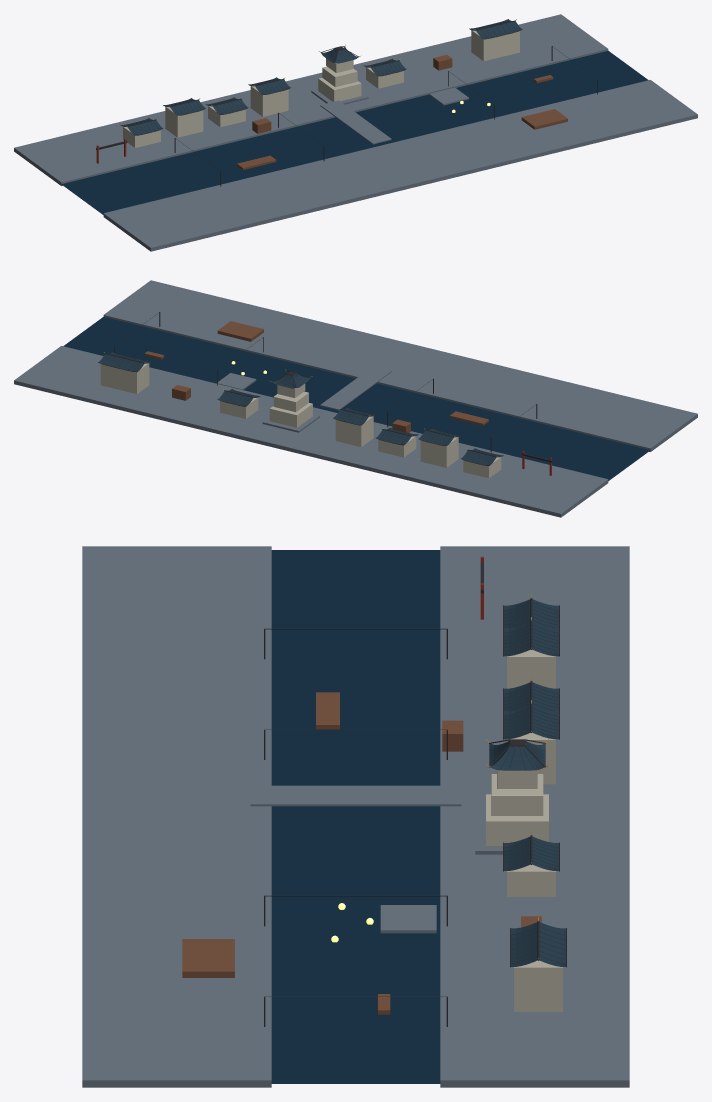
The model's file is greybox.glb.
The picture shows the model from 3 angles, top to bottom: view 1: azimuth 30°, elevation 25°; view 2: azimuth 150°, elevation 25°; view 3: azimuth 270°, elevation 25°; orthographic projection. The views are drawn at different scales.
Parts seen in each view (by area): view 1: model-riverbanks, model-water, model-lantern-tower, model-shop-06, model-shop-02, model-shop-04, model-bridge, model-shop-03, model-shop-05, model-shop-01, model-performance, model-quay; view 2: model-riverbanks, model-water, model-lantern-tower, model-shop-06, model-shop-04, model-shop-02, model-bridge, model-shop-05, model-shop-01, model-shop-03, model-performance, model-quay; view 3: model-riverbanks, model-water, model-lantern-tower, model-bridge, model-shop-06, model-shop-02, model-shop-05, model-shop-04, model-performance, model-quay, model-shop-01, model-shop-03 (+1 smaller).
Boxes of the visible parts, x1=… form: model-riverbanks: x1=14, y1=14, x2=697, y2=251; model-water: x1=61, y1=51, x2=648, y2=214; model-lantern-tower: x1=311, y1=44, x2=368, y2=104; model-shop-06: x1=469, y1=19, x2=522, y2=61; model-shop-02: x1=163, y1=98, x2=205, y2=137; model-shop-04: x1=248, y1=77, x2=290, y2=116; model-bridge: x1=320, y1=100, x2=391, y2=144; model-shop-03: x1=205, y1=97, x2=248, y2=127; model-shop-05: x1=363, y1=58, x2=406, y2=88; model-shop-01: x1=120, y1=118, x2=162, y2=147; model-performance: x1=521, y1=109, x2=567, y2=129; model-quay: x1=429, y1=87, x2=468, y2=105; model-riverbanks: x1=14, y1=280, x2=697, y2=517; model-water: x1=63, y1=317, x2=650, y2=480; model-lantern-tower: x1=262, y1=369, x2=319, y2=432; model-shop-06: x1=98, y1=352, x2=151, y2=393; model-shop-04: x1=333, y1=407, x2=375, y2=447; model-shop-02: x1=418, y1=428, x2=460, y2=467; model-bridge: x1=320, y1=366, x2=391, y2=410; model-shop-05: x1=217, y1=389, x2=260, y2=418; model-shop-01: x1=461, y1=448, x2=503, y2=478; model-shop-03: x1=376, y1=427, x2=418, y2=457; model-performance: x1=217, y1=321, x2=263, y2=341; model-quay: x1=216, y1=373, x2=256, y2=389; model-riverbanks: x1=82, y1=546, x2=629, y2=1087; model-water: x1=271, y1=550, x2=440, y2=1083; model-lantern-tower: x1=475, y1=739, x2=559, y2=854; model-bridge: x1=250, y1=785, x2=461, y2=806; model-shop-06: x1=510, y1=917, x2=566, y2=1011; model-shop-02: x1=503, y1=617, x2=559, y2=688; model-shop-05: x1=503, y1=832, x2=559, y2=896; model-shop-04: x1=503, y1=700, x2=559, y2=784; model-performance: x1=182, y1=939, x2=234, y2=977; model-quay: x1=380, y1=905, x2=436, y2=933; model-shop-01: x1=503, y1=594, x2=559, y2=627; model-shop-03: x1=503, y1=677, x2=559, y2=710.
Bounding box in the file's own units: 180 × 16.1 × 78.
